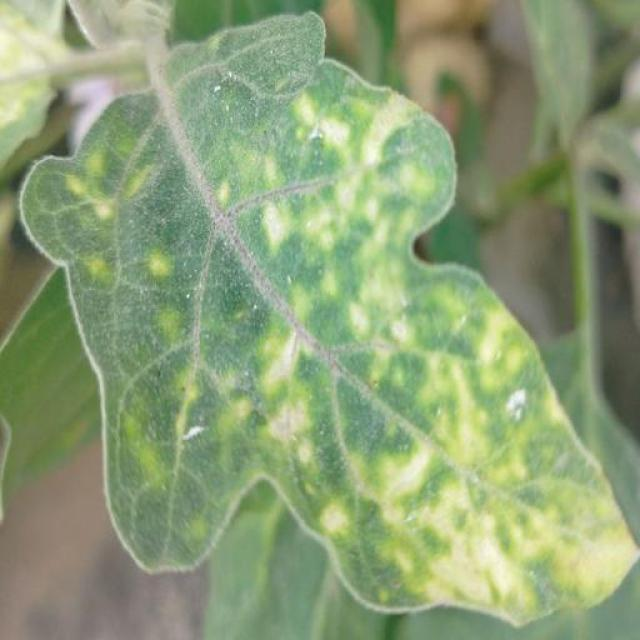leaf_spot: (335, 441, 443, 513), (464, 288, 536, 395), (410, 501, 556, 552), (424, 541, 524, 609), (525, 473, 627, 532), (117, 402, 175, 500), (540, 544, 632, 604), (228, 114, 292, 200), (412, 344, 480, 421), (424, 402, 496, 470), (246, 322, 314, 394), (78, 149, 164, 201), (548, 522, 640, 570), (59, 169, 130, 227), (373, 530, 432, 596), (423, 452, 494, 496), (484, 425, 533, 487), (298, 201, 353, 253), (247, 204, 300, 257), (491, 546, 548, 593), (346, 272, 412, 312), (364, 495, 418, 543), (219, 389, 252, 466), (528, 381, 572, 438), (364, 344, 409, 396), (137, 241, 180, 292), (428, 279, 472, 326), (371, 205, 419, 247), (349, 244, 405, 278), (316, 494, 354, 544), (511, 587, 554, 630), (78, 243, 115, 292), (322, 100, 356, 153), (264, 401, 310, 438), (381, 90, 421, 132), (352, 124, 392, 164), (331, 163, 364, 211), (498, 385, 534, 429), (397, 164, 437, 201), (285, 280, 317, 325), (173, 363, 205, 405), (312, 261, 343, 304), (354, 112, 394, 143), (222, 296, 258, 330), (152, 309, 188, 341), (348, 92, 383, 124), (386, 317, 418, 351), (469, 401, 500, 435), (339, 312, 376, 340), (376, 410, 406, 444), (332, 406, 366, 436), (294, 429, 319, 469), (292, 92, 318, 130), (183, 510, 209, 547), (369, 169, 399, 200), (538, 444, 559, 484), (215, 365, 243, 393), (284, 121, 314, 146), (299, 476, 323, 504), (311, 122, 328, 161), (270, 71, 296, 96), (217, 171, 232, 213), (361, 196, 382, 226), (198, 35, 233, 51), (370, 589, 394, 612)
